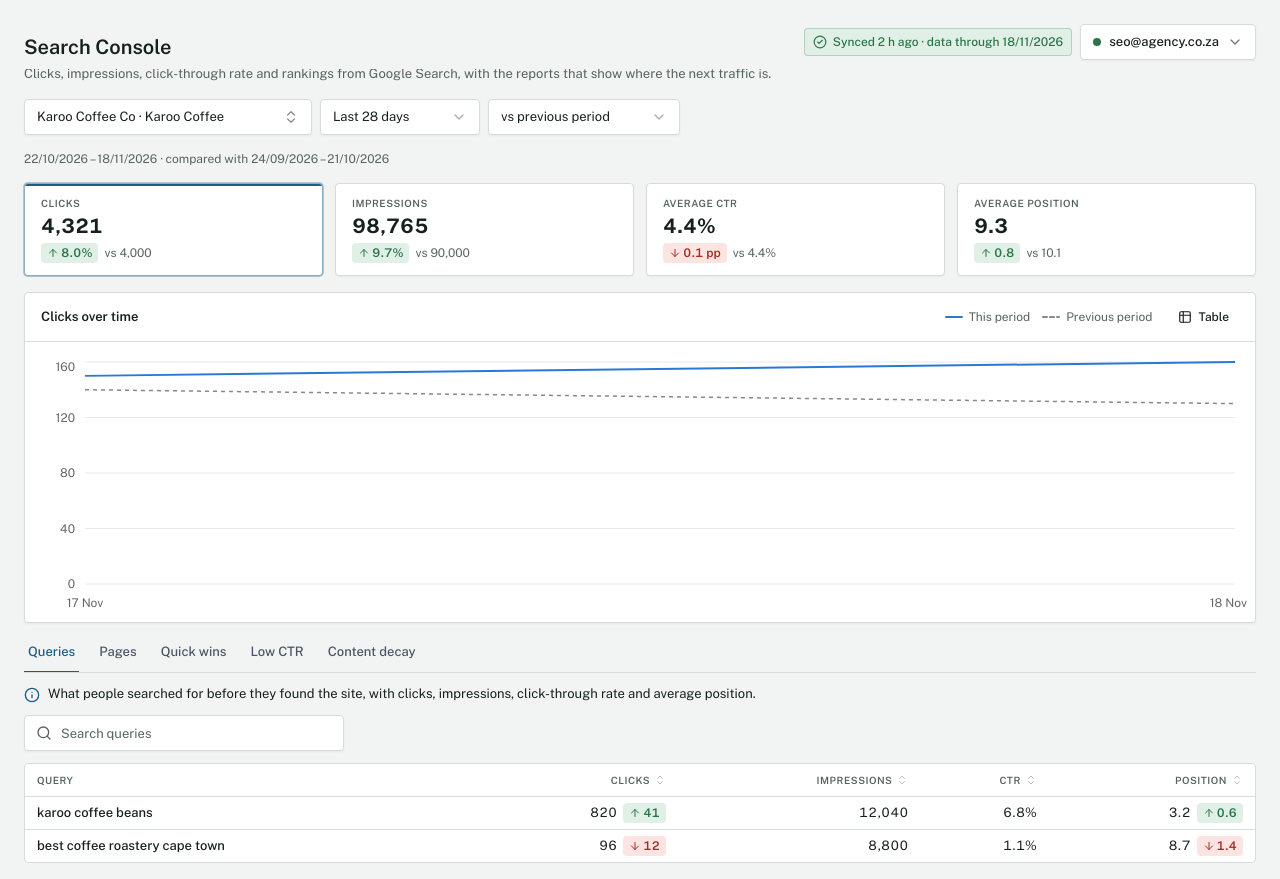
Scenario: SearchConsolePage › permissions › hides Sync now, Unlink and Disconnect from view-only users
Expected: the text "4,321" is shown, [41, 214, 103, 238]
Click the button "seo@agency.co.za" at x=1168, y=42, box [1080, 24, 1256, 60]
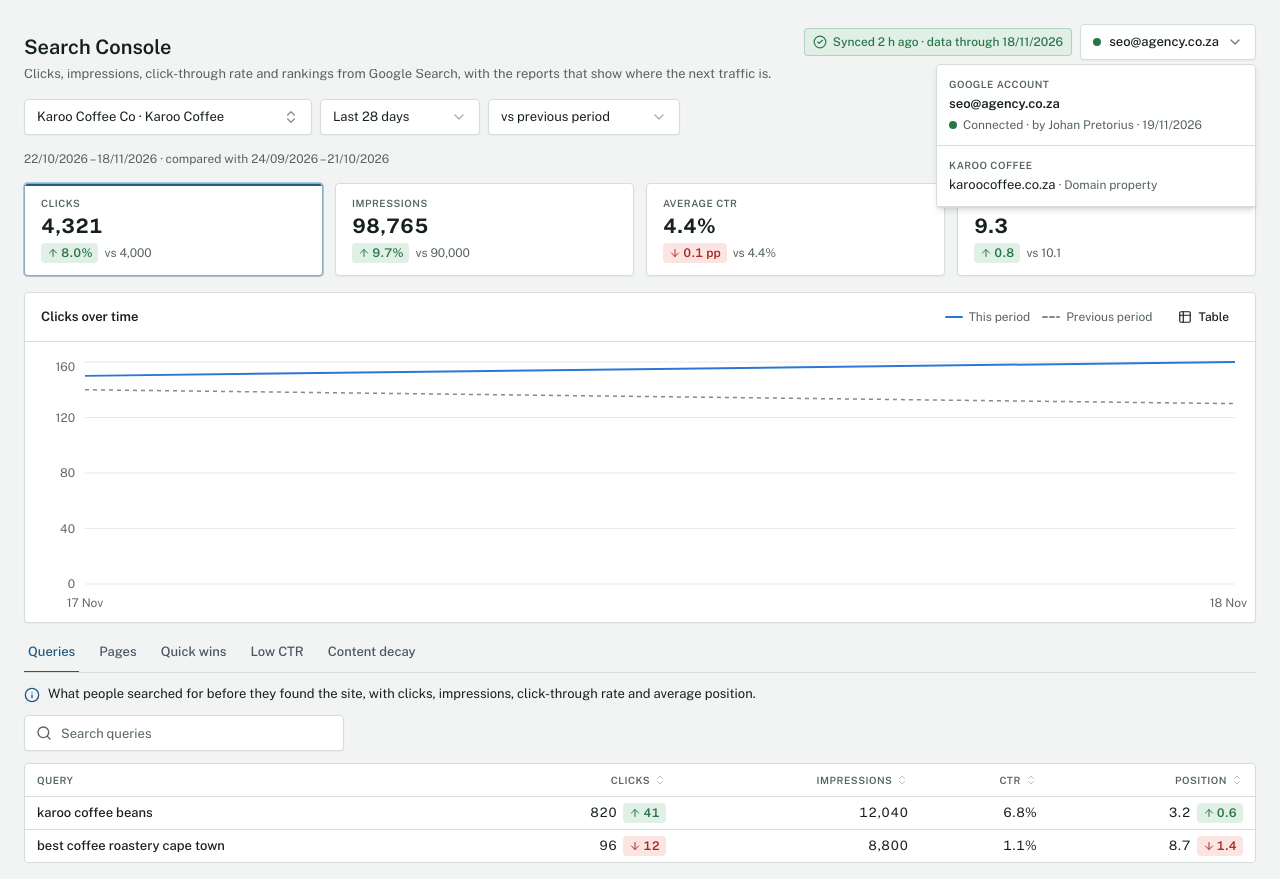
Expected: the text "Connected · by Johan Pretorius · 19/11/2026" is shown, [949, 117, 1243, 133]
